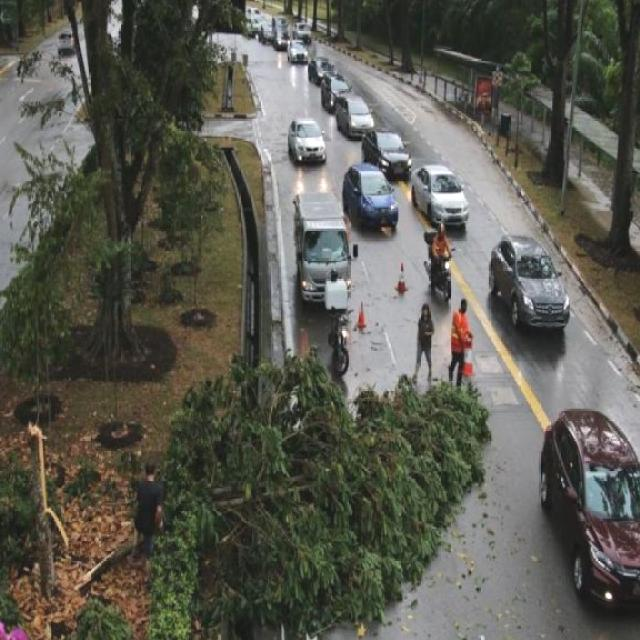fallen_object: (93, 369, 507, 592)
